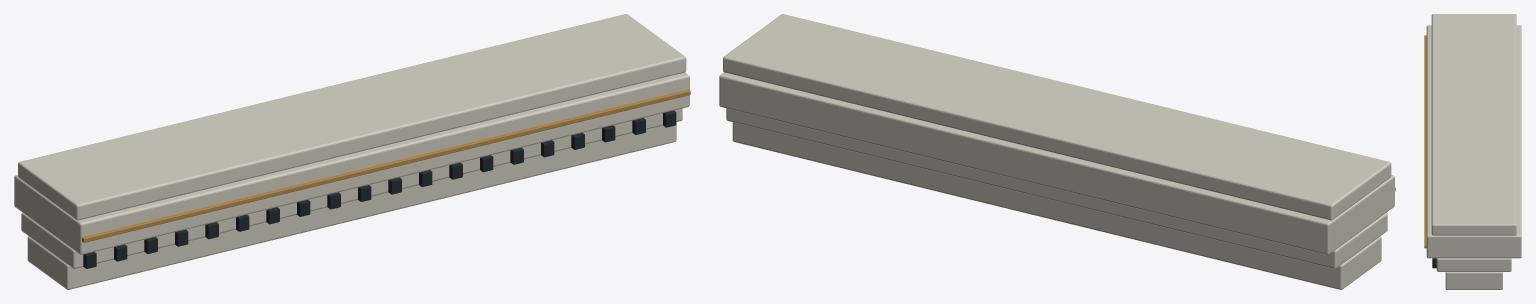
Rendered from SM_Aurelion_KIT_Cornice_4m.fbx.
3 views of the same model, side by side, from view 1: azimuth 30°, elevation 25°; view 2: azimuth 150°, elevation 25°; view 3: azimuth 270°, elevation 25° (orthographic). The views are drawn at different scales.
Visible parts, largest first — view 1: SM_Aurelion_KIT_Cornice_4m; view 2: SM_Aurelion_KIT_Cornice_4m; view 3: SM_Aurelion_KIT_Cornice_4m.
Part boxes in pixels (x1,y1,x2,y2): SM_Aurelion_KIT_Cornice_4m: (14, 14, 690, 289); SM_Aurelion_KIT_Cornice_4m: (719, 14, 1395, 289); SM_Aurelion_KIT_Cornice_4m: (1424, 14, 1521, 289).
Size of the model in its own units: 400 by 78.05 by 58.
